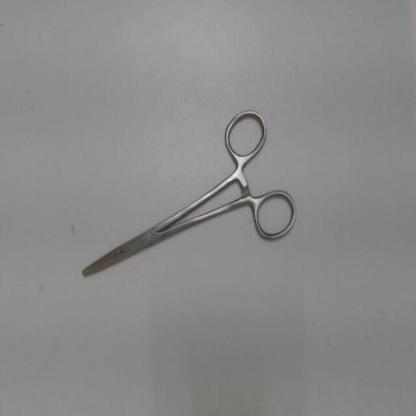Mayo Needle Holder: (68, 98, 304, 289)
